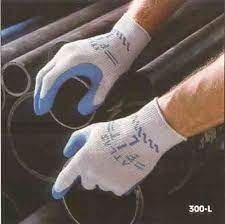gloves: (56, 114, 170, 202), (31, 19, 146, 105)
